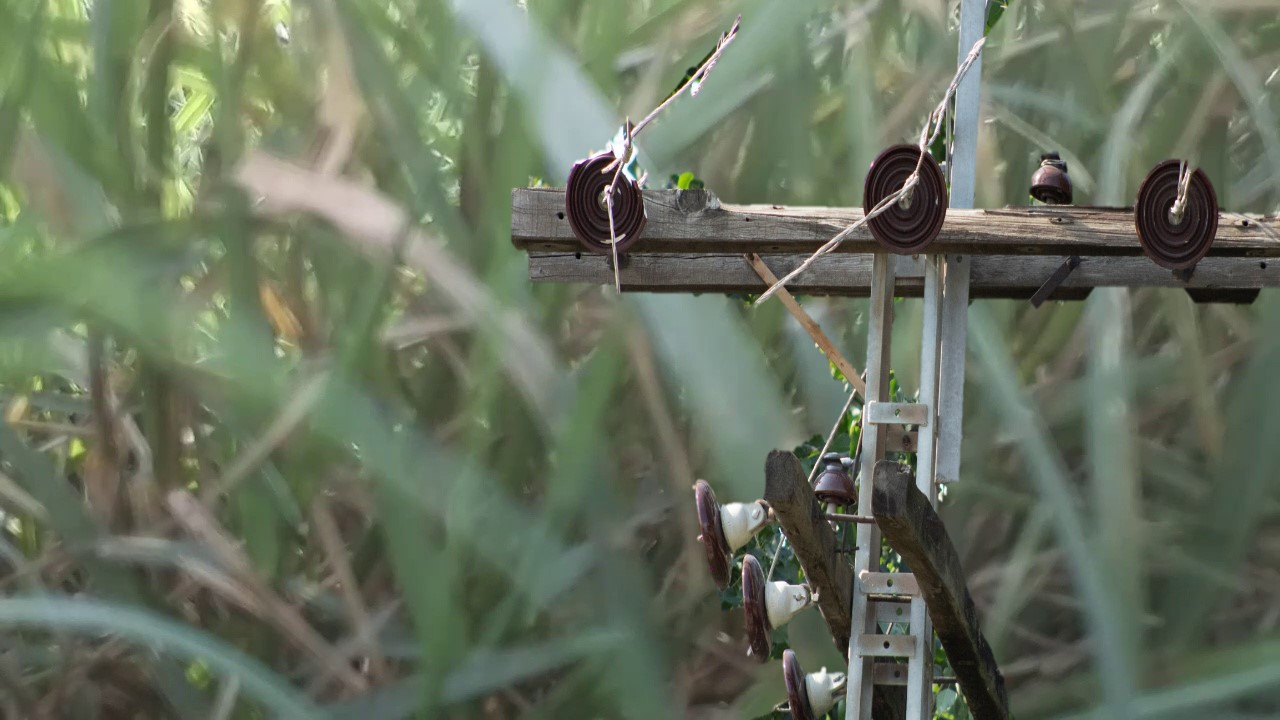defect_disc: (566, 143, 652, 256)
insulator_disc: (859, 134, 953, 263), (1135, 153, 1225, 276), (687, 471, 740, 581), (730, 551, 780, 664), (771, 637, 833, 705)
insulator_pin: (811, 444, 858, 505), (1028, 149, 1078, 203)
